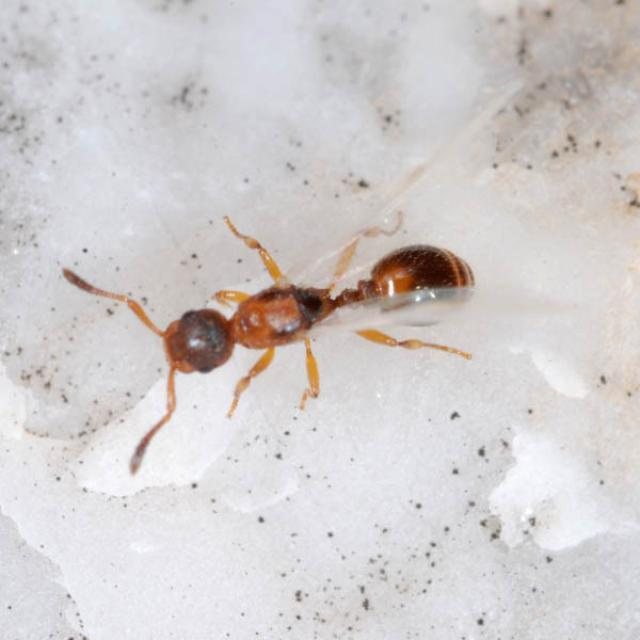Temnothorax: (79, 185, 485, 423)
